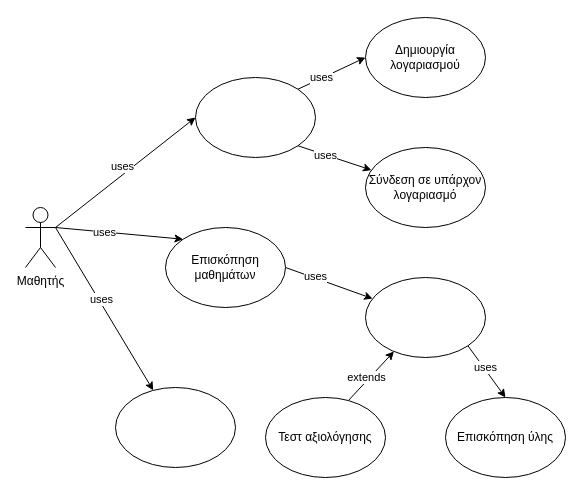
The diagram is 583 pixels wide and 495 high, and some of its shapes have lost their labels. The shapes that lost their labels are listed below. From the top down, each one's centre as x and y in pixels, then its label:
At [255,117]: "Σύστημα ταυτοποίησης".
At [425,317]: "Επιλογή μαθήματος".
At [175,427]: "Αποσύνδεση".
